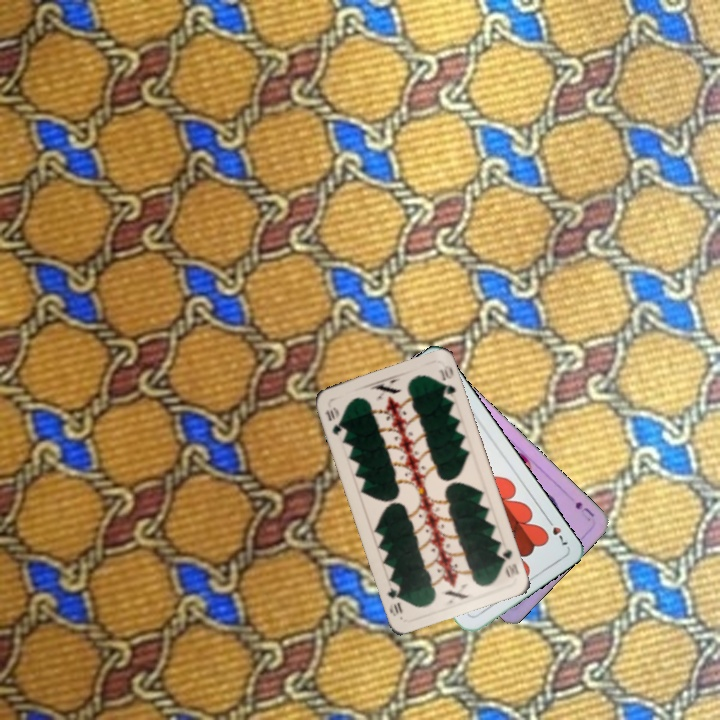G10: (494, 542, 522, 581), (321, 403, 346, 438)
H7: (543, 514, 570, 549)
SU: (571, 498, 597, 524)
